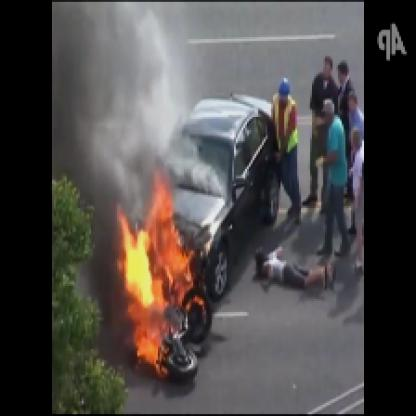Fire: (117, 162, 208, 390)
Smoke: (52, 2, 169, 176)
